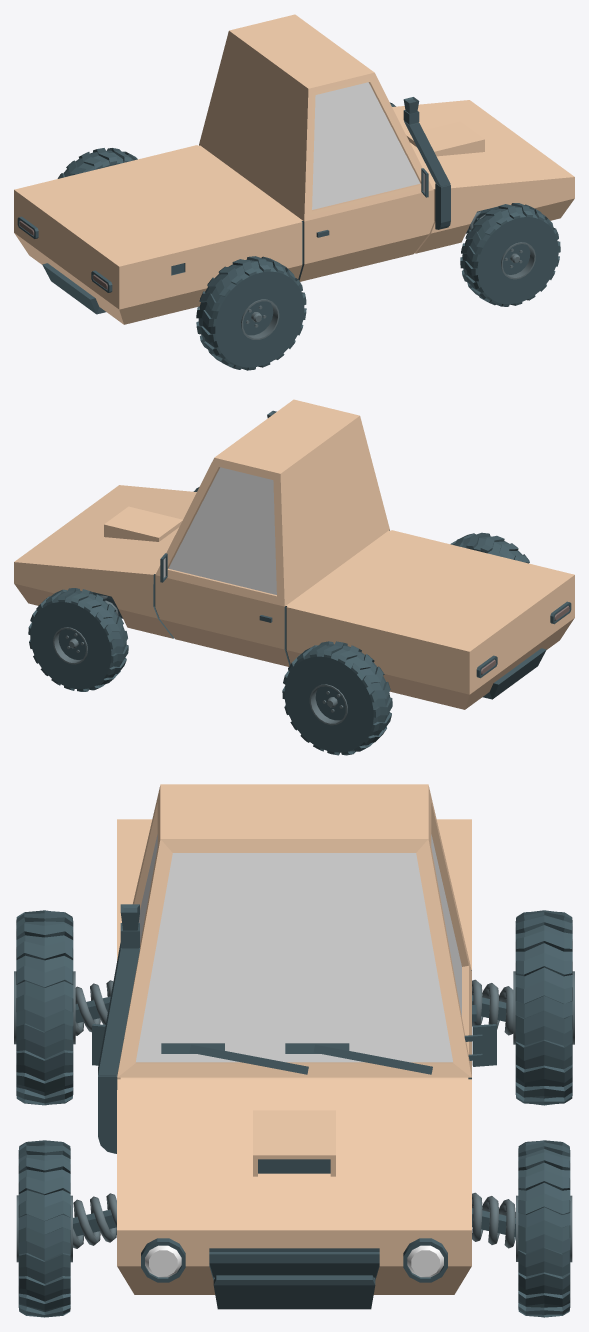
The model's file is Pickup.fbx.
3 renders of one model, top to bottom at view 1: azimuth 30°, elevation 25°; view 2: azimuth 150°, elevation 25°; view 3: azimuth 270°, elevation 25°, orthographic. The views are drawn at different scales.
Visible parts, largest first — view 1: Frame, Rear_wheel.001, Front_wheel.001, Rear_wheel; view 2: Frame, Rear_wheel, Front_wheel, Rear_wheel.001; view 3: Frame, Rear_wheel.001, Rear_wheel, Front_wheel.001, Front_wheel, Spring, Spring.002, Spring.001, Spring.003.
Boxes of the visible parts, x1,y1,x2,y2 form: Frame: (14,14,574,324); Rear_wheel.001: (196,256,306,370); Front_wheel.001: (460,203,560,306); Rear_wheel: (57,148,137,178); Frame: (14,399,574,709); Rear_wheel: (282,641,392,755); Front_wheel: (28,588,128,691); Rear_wheel.001: (450,532,529,563); Frame: (92,784,496,1309); Rear_wheel.001: (14,910,75,1105); Rear_wheel: (513,910,574,1105); Front_wheel.001: (16,1140,72,1317); Front_wheel: (516,1140,572,1317); Spring: (472,1192,515,1248); Spring.002: (73,1193,116,1248); Spring.001: (472,979,513,1035); Spring.003: (75,980,113,1035).
Bounding box in the file's own units: 510 × 241 × 316.
